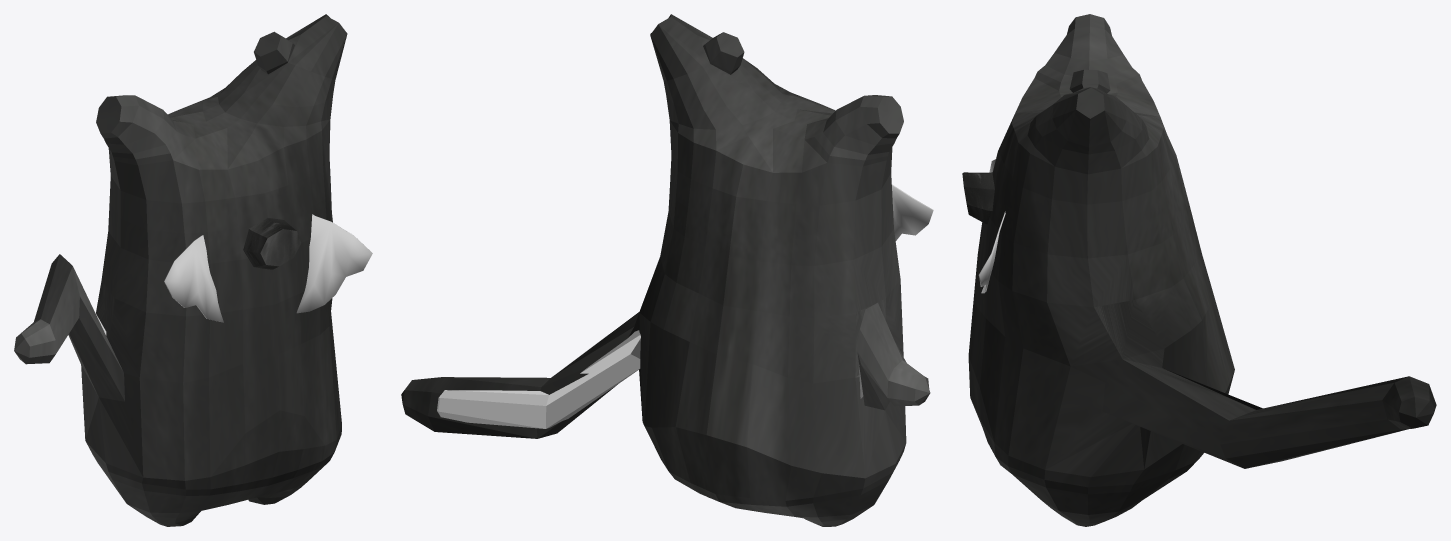
File: frame_0041.obj
3 renders of one model, left to right at view 1: azimuth 30°, elevation 25°; view 2: azimuth 150°, elevation 25°; view 3: azimuth 270°, elevation 25°, orthographic.
Parts seen in each view (by area): view 1: korok, leaf, nose; view 2: korok, leaf; view 3: korok, nose.
Boxes of the visible parts, box(x1,y1,x2,y2) form: korok: box(14, 14, 347, 526); leaf: box(164, 214, 372, 322); nose: box(243, 218, 301, 269); korok: box(401, 14, 930, 526); leaf: box(892, 184, 933, 240); korok: box(968, 14, 1436, 526); nose: box(962, 172, 994, 224).
Size of the model in its own units: 1.96 by 2.25 by 2.08.
